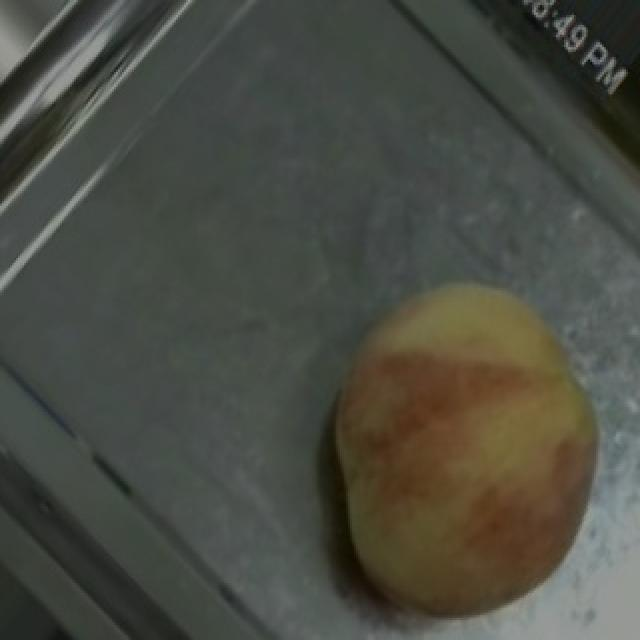Fruit: (294, 235, 624, 586)
